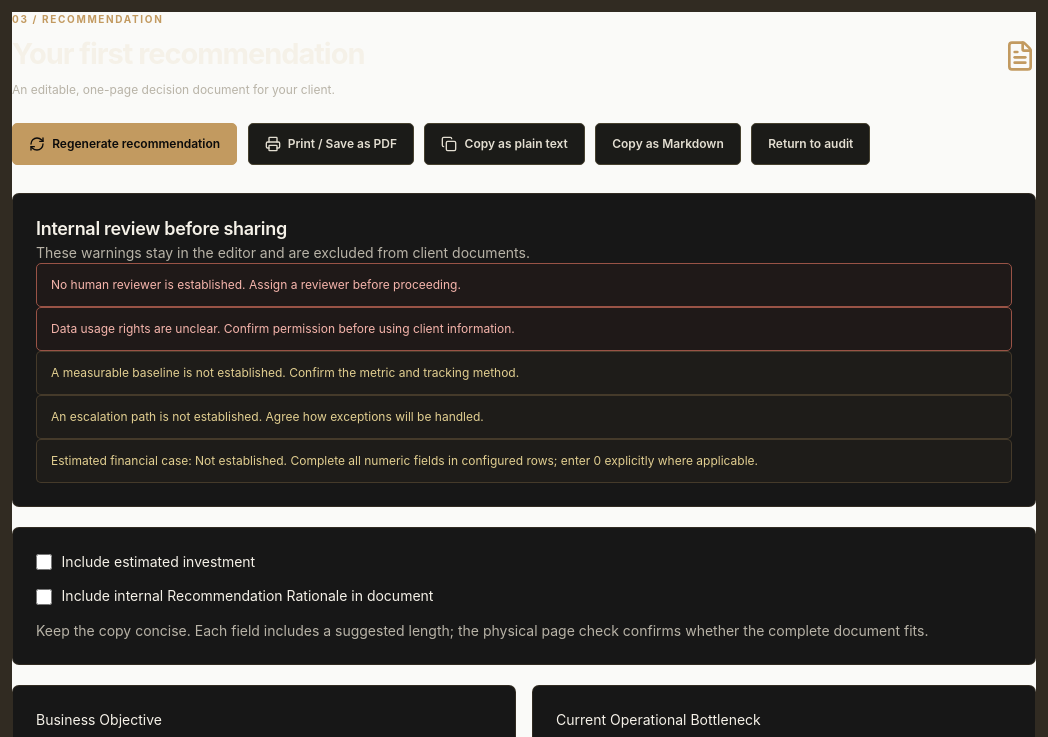
Test case: document editing › excludes internal rationale from copied text unless explicitly enabled
Click the button "Copy as plain text": x=505, y=144 [424, 123, 585, 165]
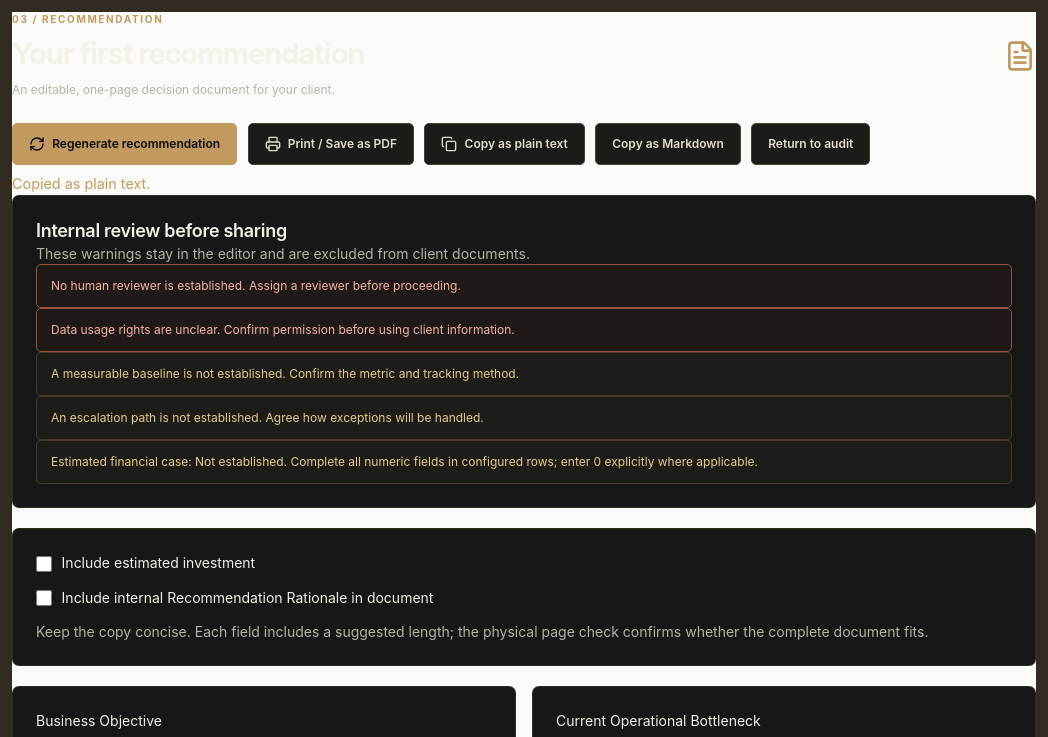
Now the text "Copied as plain text." is shown, box [12, 175, 150, 192]
